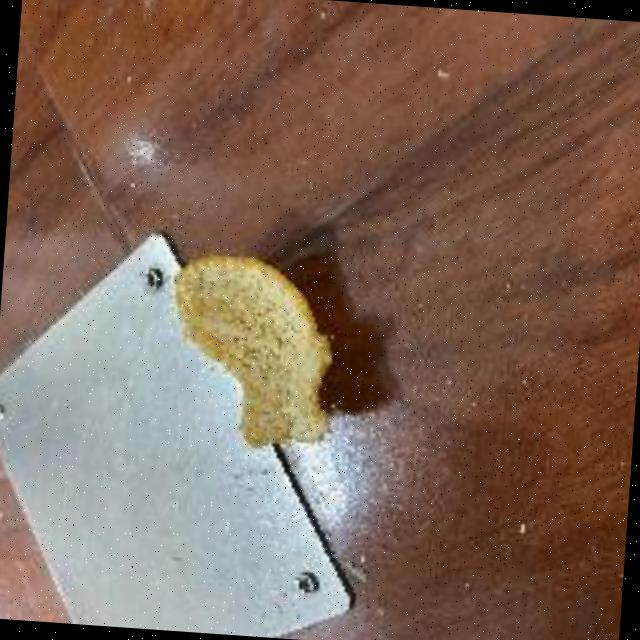orange-peel: (158, 244, 346, 453)
